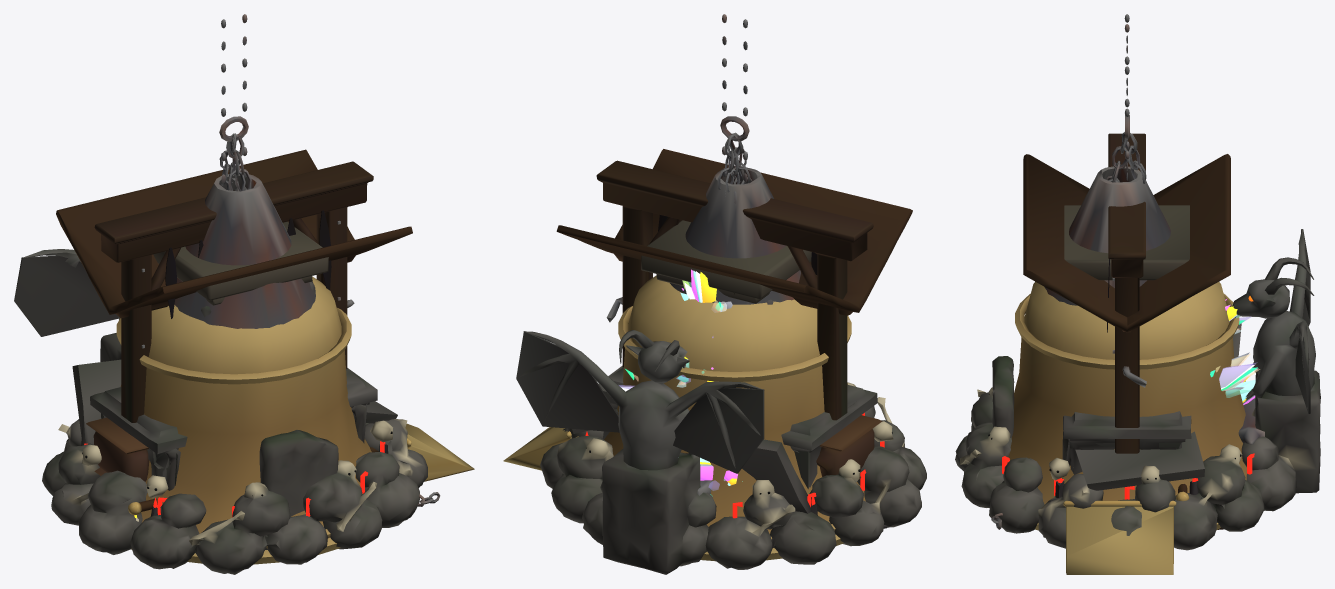
File: cosas.glb
3 views of the same model, side by side, from view 1: azimuth 30°, elevation 25°; view 2: azimuth 150°, elevation 25°; view 3: azimuth 270°, elevation 25° (orthographic). The views are drawn at different scales.
Parts seen in each view (by area): view 1: cuerpo (×11); view 2: cuerpo (×12), extra_cadenas; view 3: cuerpo (×13).
Boxes of the visible parts, x1=… form: cuerpo (×11): x1=14, y1=116, x2=474, y2=574; cuerpo (×12): x1=503, y1=116, x2=926, y2=574; extra_cadenas: x1=722, y1=14, x2=747, y2=182; cuerpo (×13): x1=955, y1=115, x2=1320, y2=574.
Size of the model in its own units: 2.86 by 3.61 by 2.51.
